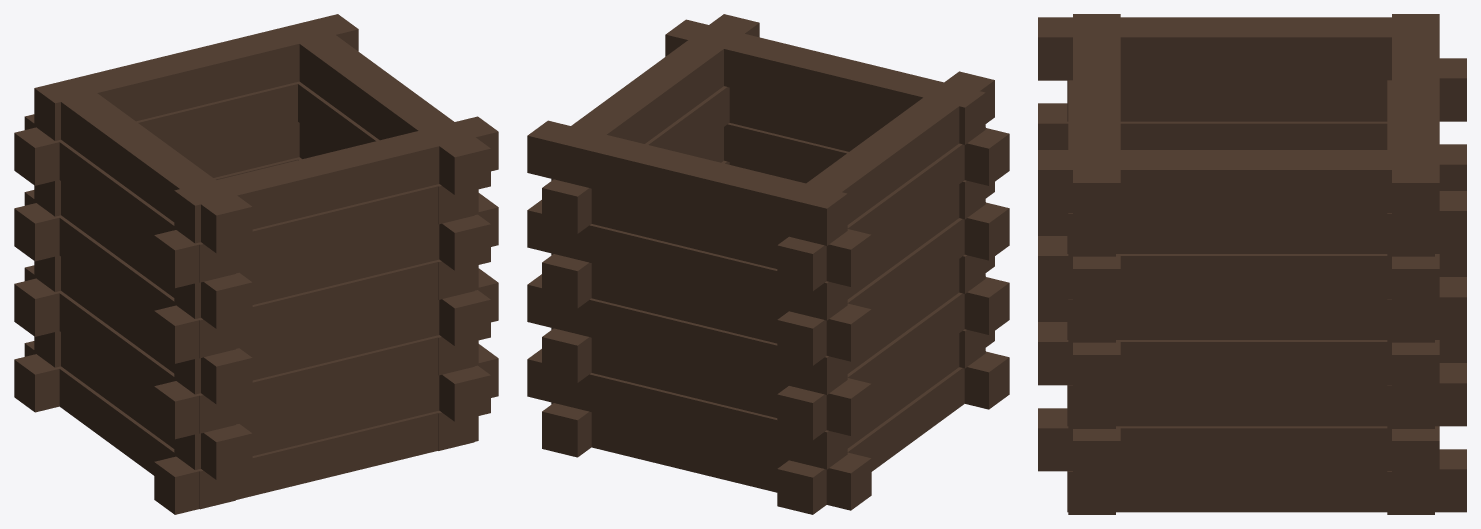
Rendered from Tower Section destruction.fbx.
3 views of the same model, side by side, from view 1: azimuth 30°, elevation 25°; view 2: azimuth 150°, elevation 25°; view 3: azimuth 270°, elevation 25° (orthographic). The views are drawn at different scales.
Visible parts, largest first — view 1: Cube.155, Cube.144, Cube.177, Cube.145, Cube.154, Cube.187, Cube.188, Cube.176, Cube.151, Cube.159, Cube.164, Cube.156 (+42 smaller); view 2: Cube.144, Cube.145, Cube.155, Cube.154, Cube.147, Cube.136, Cube.139, Cube.137, Cube.146, Cube.138, Cube.176, Cube.177 (+39 smaller); view 3: Cube.176, Cube.177, Cube.188, Cube.187, Cube.186, Cube.194, Cube.195, Cube.185, Cube.196, Cube.193, Cube.197, Cube.192 (+33 smaller).
Part boxes in pixels (left/top/right/bottom): Cube.155: left=174, top=153, right=346, bottom=243; Cube.144: left=34, top=51, right=206, bottom=140; Cube.177: left=128, top=142, right=252, bottom=253; Cube.145: left=186, top=14, right=358, bottom=103; Cube.154: left=326, top=116, right=498, bottom=206; Cube.187: left=367, top=84, right=490, bottom=194; Cube.188: left=280, top=20, right=402, bottom=130; Cube.176: left=41, top=78, right=164, bottom=188; Cube.151: left=154, top=287, right=326, bottom=363; Cube.159: left=154, top=363, right=326, bottom=439; Cube.164: left=154, top=438, right=326, bottom=514; Cube.156: left=154, top=212, right=326, bottom=288; Cube.144: left=677, top=157, right=847, bottom=245; Cube.145: left=527, top=120, right=697, bottom=209; Cube.155: left=815, top=56, right=985, bottom=144; Cube.154: left=665, top=19, right=835, bottom=108; Cube.147: left=677, top=245, right=847, bottom=320; Cube.136: left=677, top=394, right=847, bottom=469; Cube.139: left=677, top=319, right=847, bottom=394; Cube.137: left=527, top=349, right=678, bottom=432; Cube.146: left=527, top=200, right=678, bottom=283; Cube.138: left=527, top=274, right=678, bottom=358; Cube.176: left=789, top=135, right=908, bottom=224; Cube.177: left=873, top=71, right=994, bottom=180; Cube.176: left=1238, top=17, right=1437, bottom=80; Cube.177: left=1038, top=17, right=1237, bottom=80; Cube.188: left=1238, top=150, right=1437, bottom=212; Cube.187: left=1038, top=150, right=1237, bottom=212; Cube.186: left=1038, top=236, right=1237, bottom=299; Cube.194: left=1038, top=322, right=1237, bottom=385; Cube.195: left=1038, top=408, right=1237, bottom=471; Cube.185: left=1238, top=254, right=1437, bottom=299; Cube.196: left=1238, top=426, right=1391, bottom=471; Cube.193: left=1238, top=340, right=1391, bottom=385; Cube.197: left=1267, top=449, right=1466, bottom=512; Cube.192: left=1267, top=363, right=1466, bottom=426.
Bounding box in the file's own units: 3.24 × 2.88 × 3.24.
